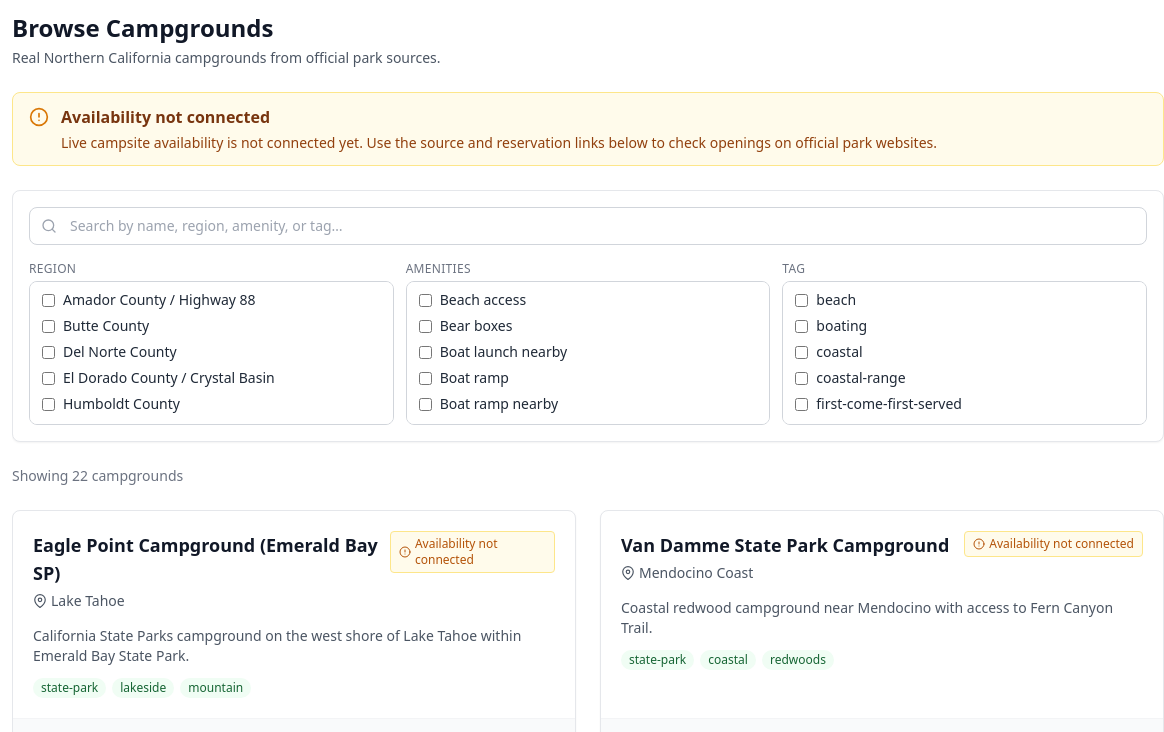
Test: CampgroundsPage › removes an individual region chip
The width and height of the screenshot is (1164, 732).
Click the checkbox labelled "Amador County / Highway 88" at (48, 300), box x1=42 y1=294 x2=55 y2=306
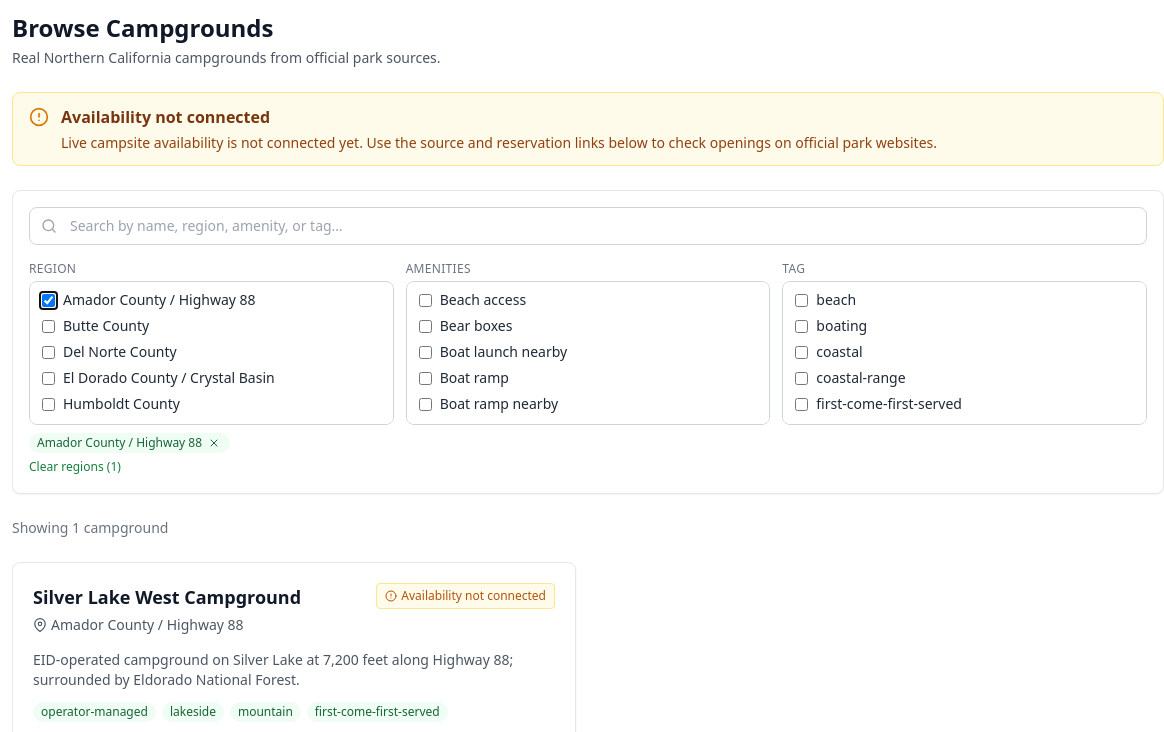
Click the checkbox labelled "Butte County" at (48, 326), box x1=42 y1=320 x2=55 y2=332
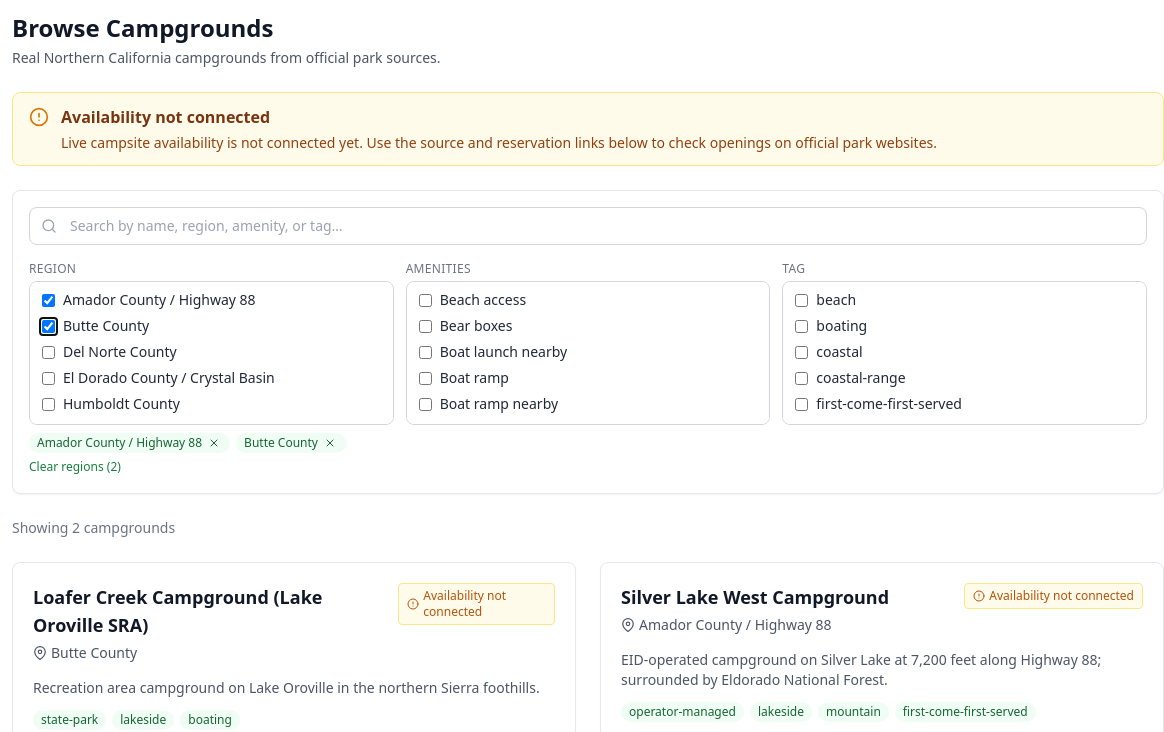
Click the button named "Remove Amador County / Highway 88" at (214, 443), box x1=206 y1=435 x2=222 y2=451
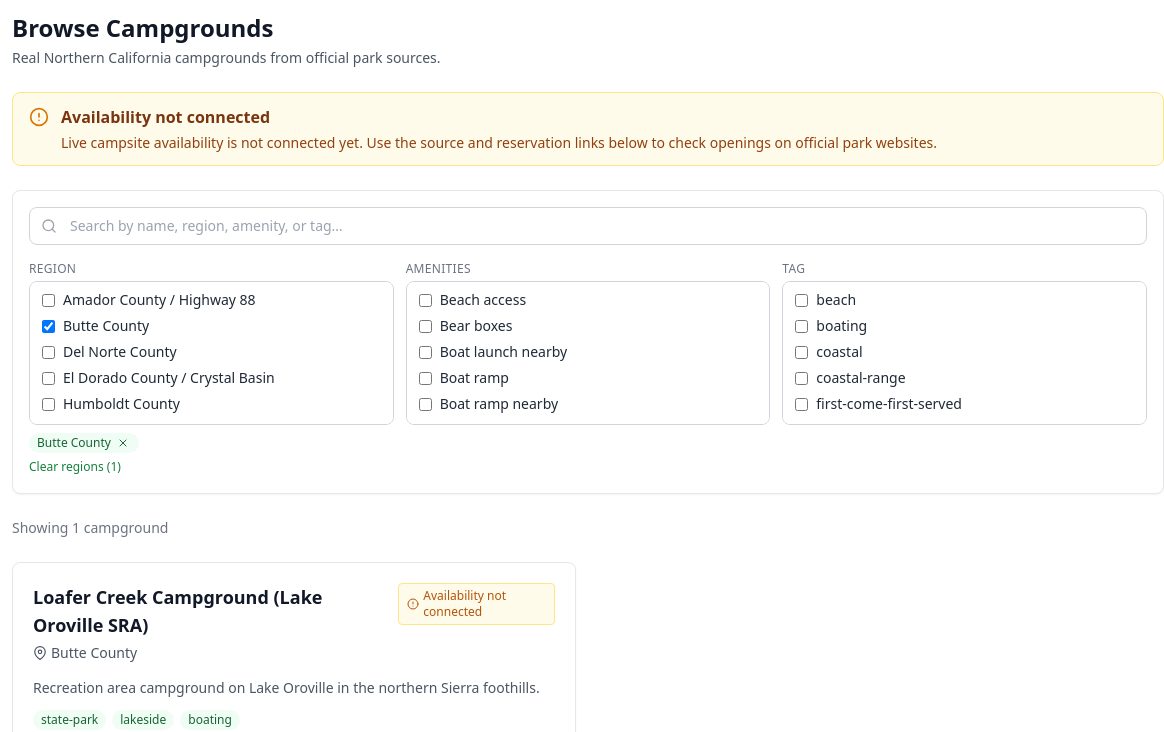
Expected: the button "Clear regions (1)" is shown, x1=29 y1=459 x2=121 y2=475
